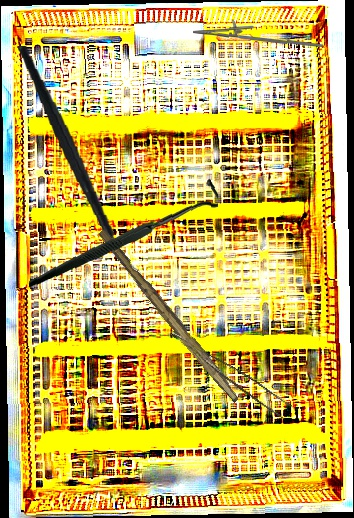Chopper: (17, 37, 143, 280)
Hook Surgical: (29, 169, 219, 298)
Needle Holder: (192, 17, 324, 51)
Scalpel Handle: (94, 227, 245, 404)
Tissue Forceps: (162, 331, 296, 421)
